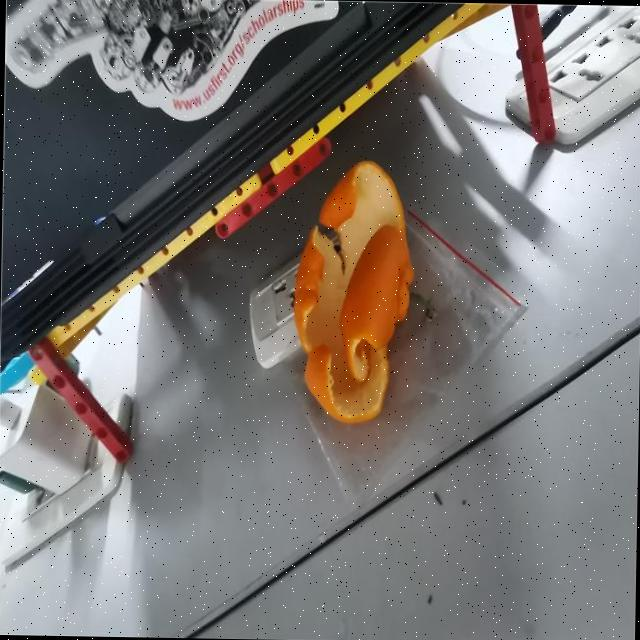orange-peel: (289, 158, 417, 424)
